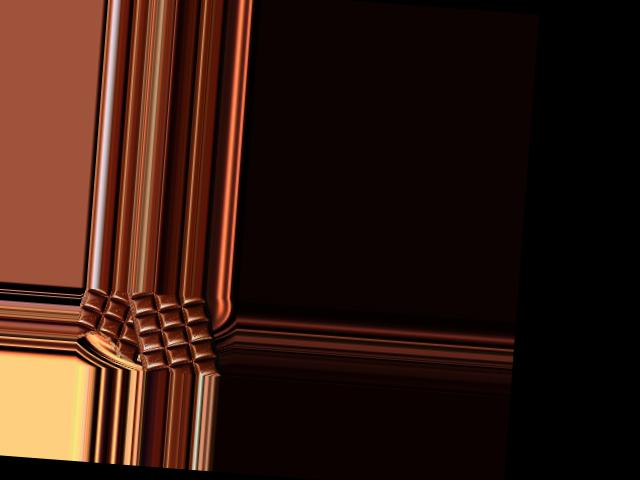chocolate: (120, 289, 229, 375)
